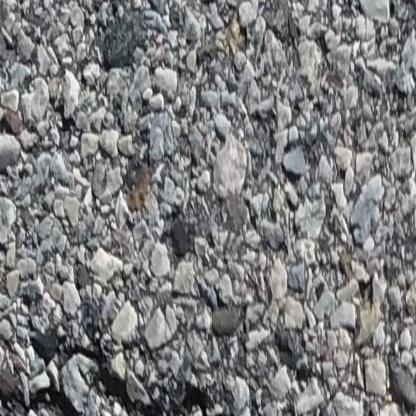Cracks: (0, 343, 285, 416)
